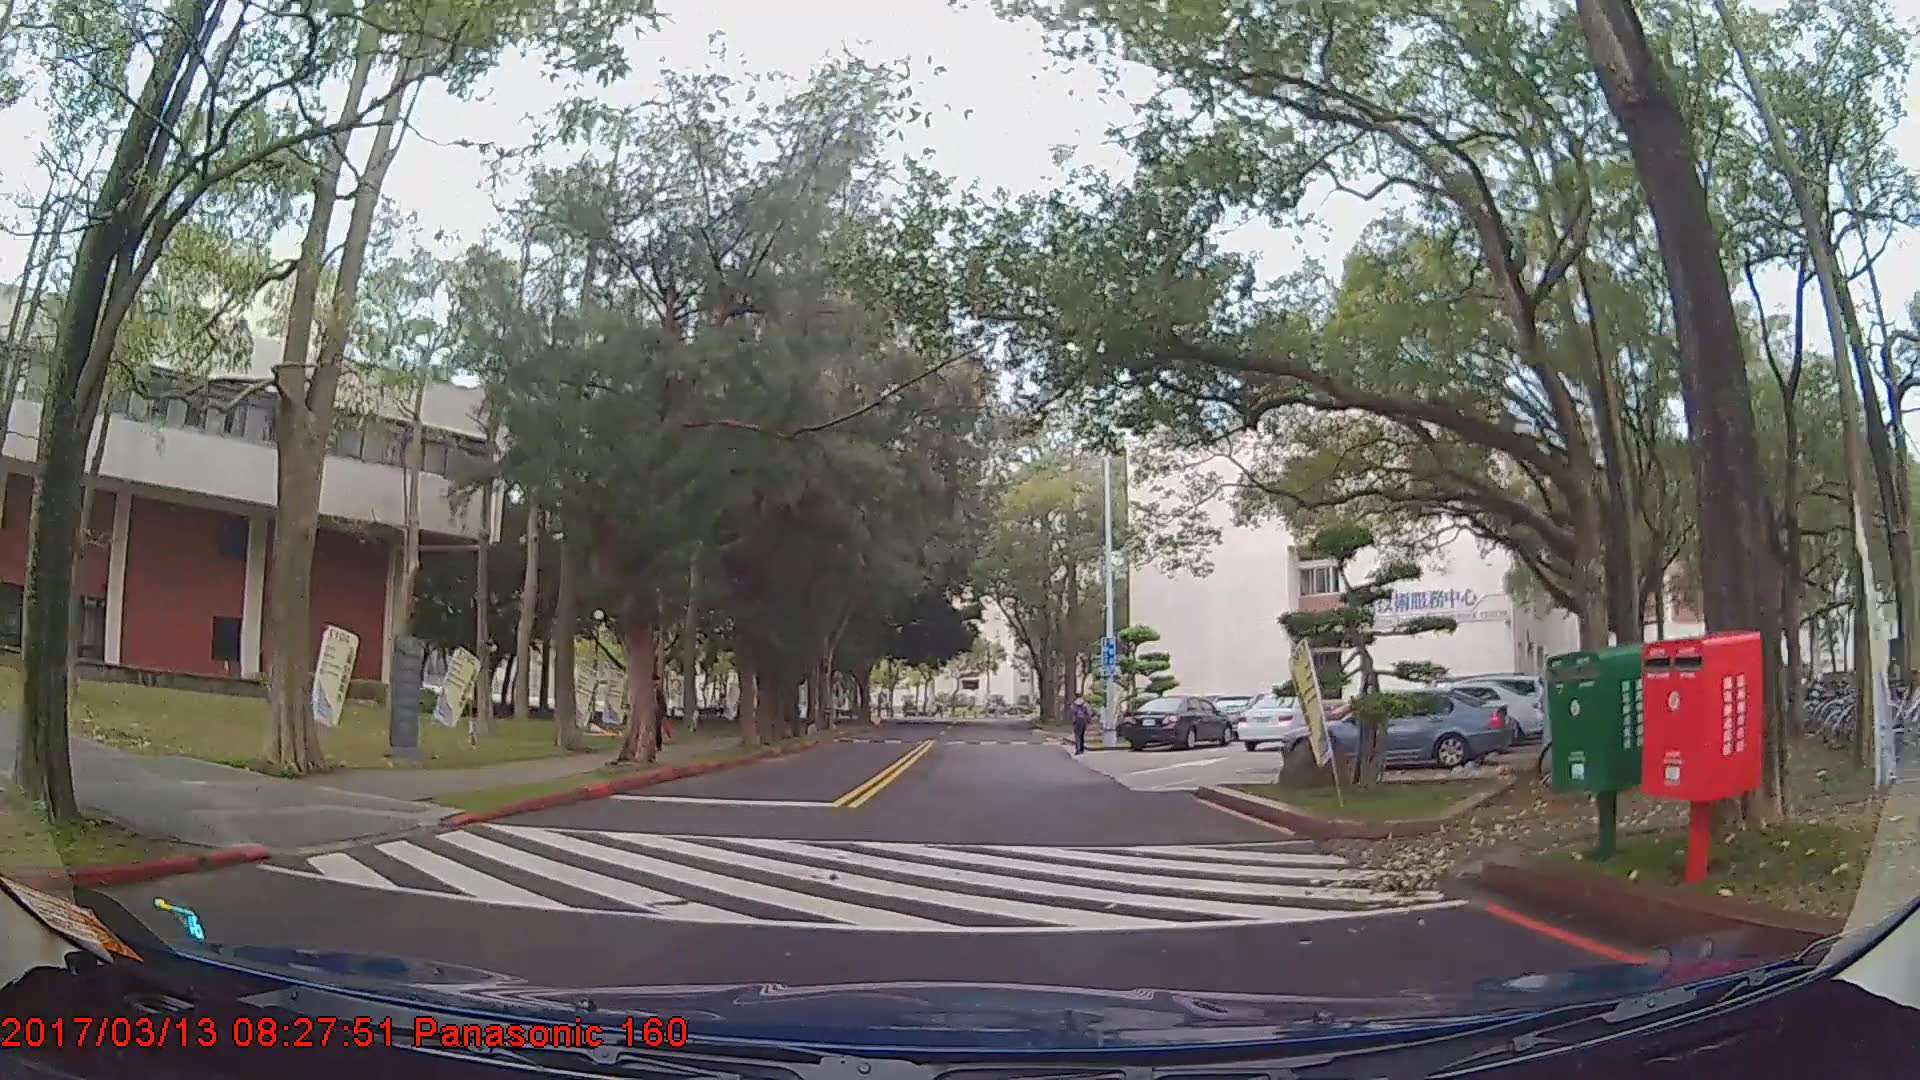pedestrian: (639, 672, 669, 754), (1068, 692, 1096, 756)
vehicle: (1279, 683, 1510, 776), (1117, 695, 1230, 750), (1235, 691, 1327, 751)
